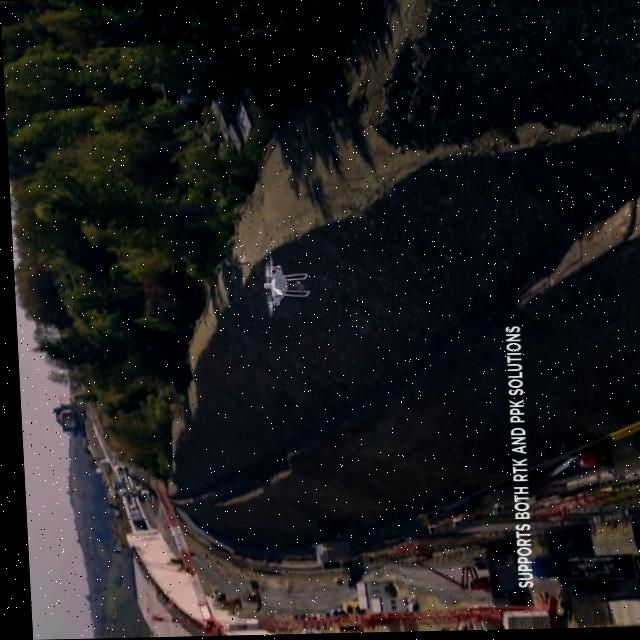drone: (259, 253, 309, 319)
